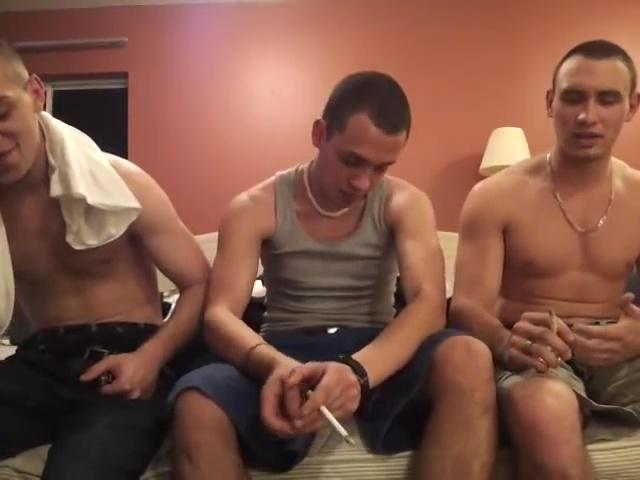cigarette: (317, 401, 358, 449), (547, 306, 562, 336)
